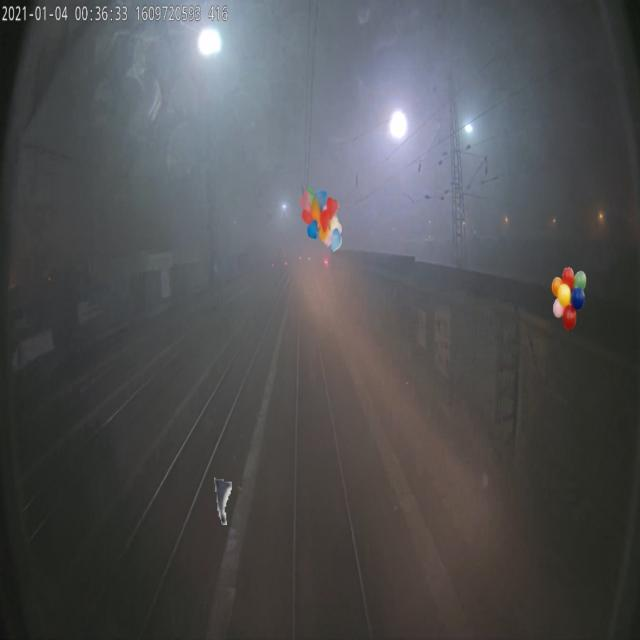balloon: (299, 188, 343, 252), (551, 266, 587, 331)
floating object: (213, 463, 232, 527)
